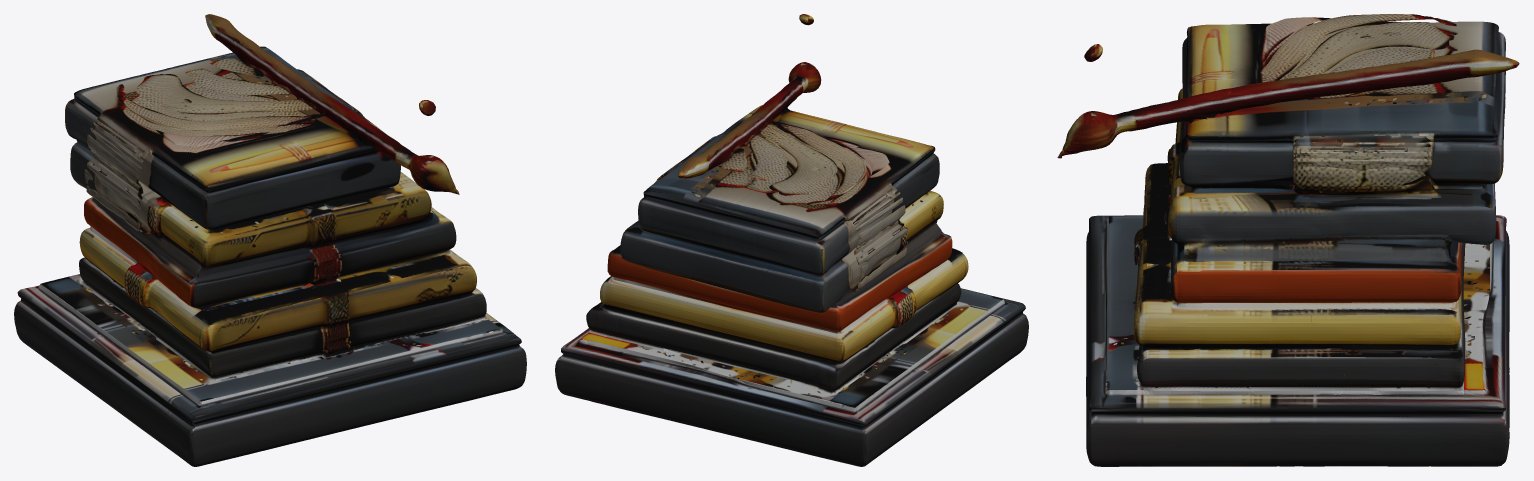
Rendered from prop.glb.
3 views of the same model, side by side, from view 1: azimuth 30°, elevation 25°; view 2: azimuth 150°, elevation 25°; view 3: azimuth 270°, elevation 25° (orthographic). The views are drawn at different scales.
Parts seen in each view (by area): view 1: geometry_0; view 2: geometry_0; view 3: geometry_0.
Boxes of the visible parts, box(x1,y1,x2,y2) form: geometry_0: box(14, 14, 526, 466); geometry_0: box(555, 14, 1028, 466); geometry_0: box(1057, 14, 1519, 466).
Size of the model in its own units: 1.95 by 1.72 by 1.94.
Materials: 1 (1 with a texture image).
